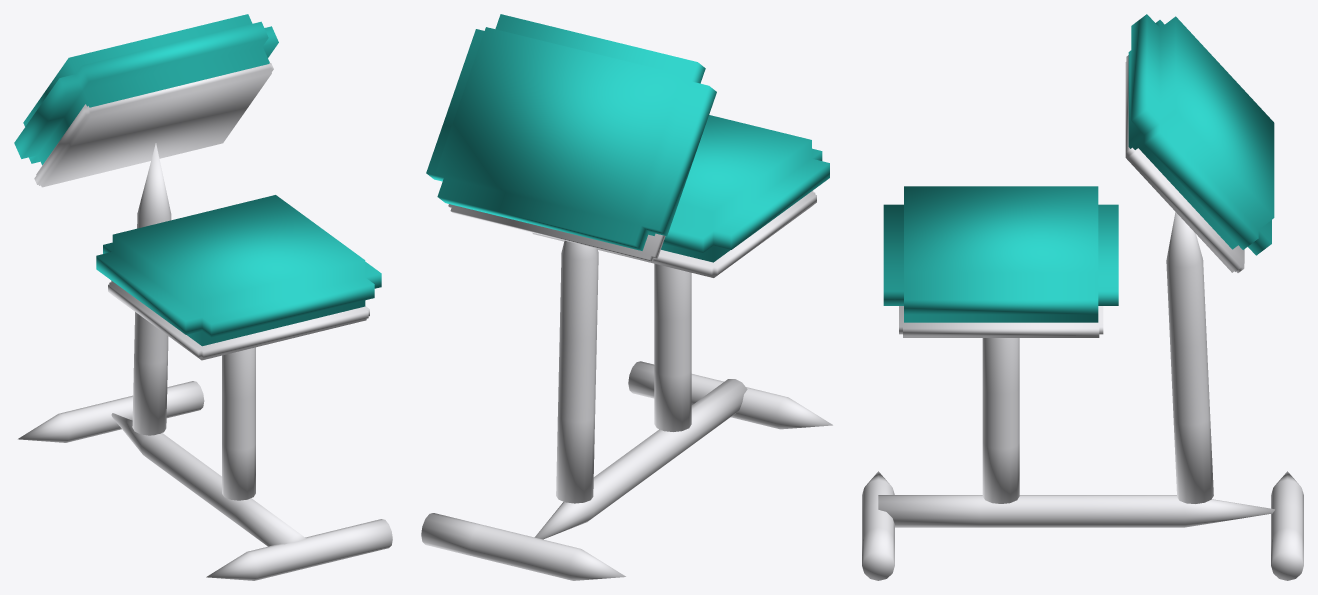
The model's file is NeonSportBench.glb.
3 views of the same model, side by side, from view 1: azimuth 30°, elevation 25°; view 2: azimuth 150°, elevation 25°; view 3: azimuth 270°, elevation 25° (orthographic). The views are drawn at different scales.
Parts seen in each view (by area): view 1: NeonSportBench; view 2: NeonSportBench; view 3: NeonSportBench.
Part boxes in pixels (bbox=[...]): NeonSportBench: bbox=[14, 14, 392, 580]; NeonSportBench: bbox=[421, 14, 832, 580]; NeonSportBench: bbox=[862, 14, 1303, 580].
Bounding box in the file's own units: 1.3 × 2.55 × 2.16.
Materials: 1 (1 with a texture image).
